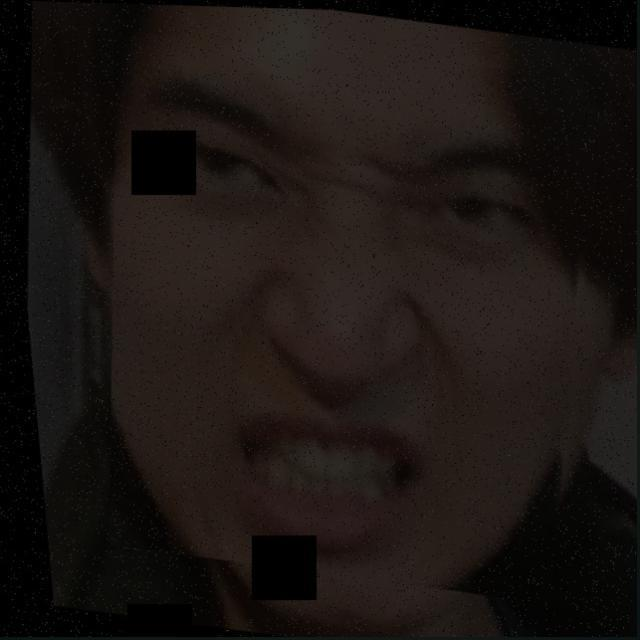angry: (75, 16, 575, 626)
